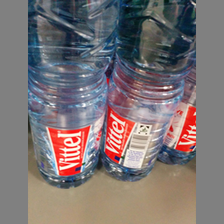water: (29, 1, 120, 188), (102, 1, 194, 181)
